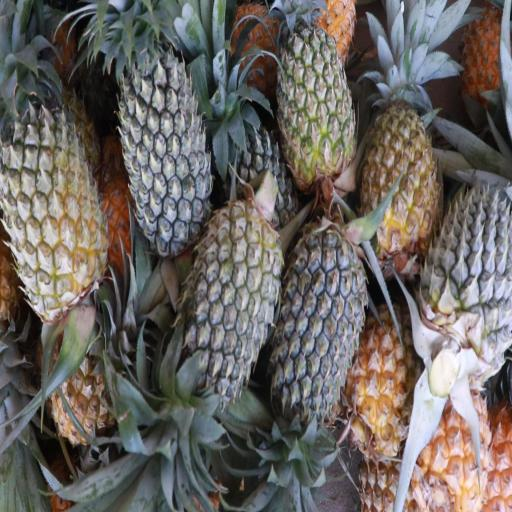------------------------------: (0, 67, 105, 312), (276, 2, 356, 182)
Pineapple - v8 v1: (362, 68, 443, 261), (350, 306, 427, 462), (56, 322, 145, 450), (413, 386, 492, 512)
